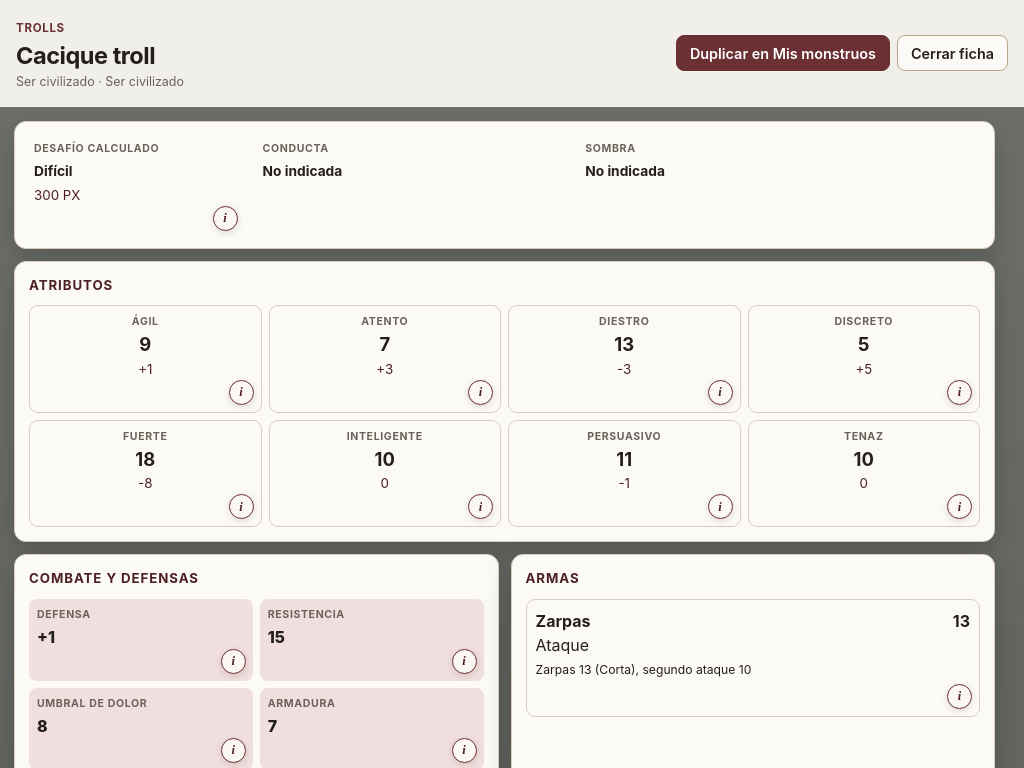
it: MonsterReferenceSheet › aplica los niveles Maestro publicados del cacique troll al daño
The width and height of the screenshot is (1024, 768).
Click the button named "Ver cálculo de ataque de Zarpas" at (960, 696), box [947, 684, 972, 709]
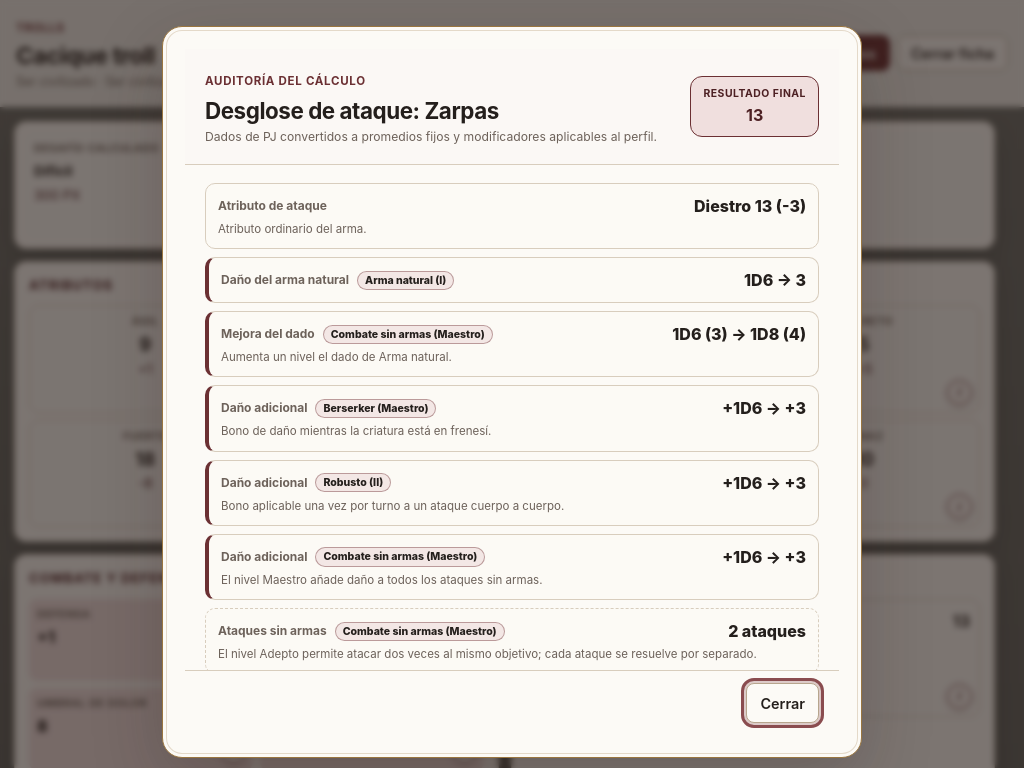
Result: the text "Berserker (Maestro)" is shown at [316, 399, 436, 418]
Result: the text "Robusto (II)" is shown at [316, 473, 391, 492]
